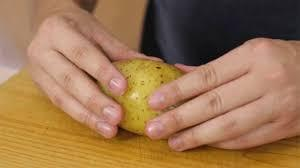Organic: (97, 45, 220, 141)
